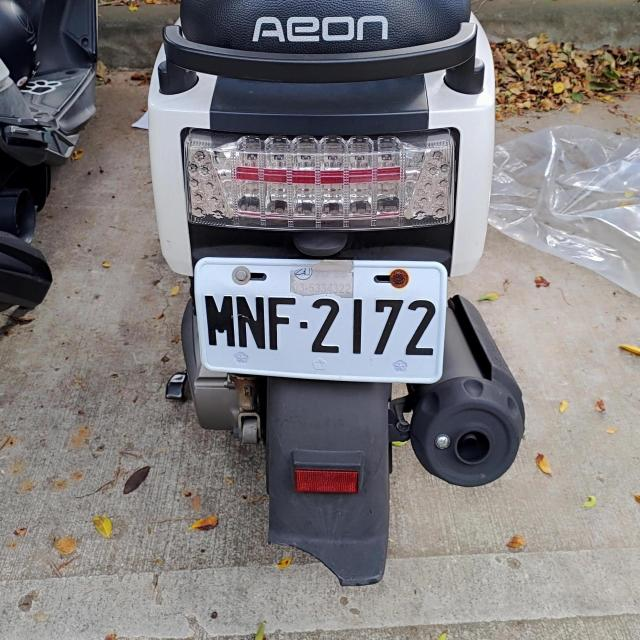W: (196, 259, 445, 382)
